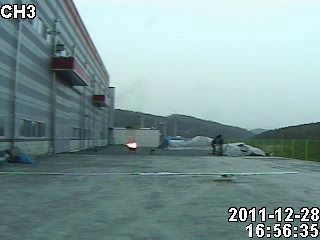fire: (126, 137, 139, 150)
